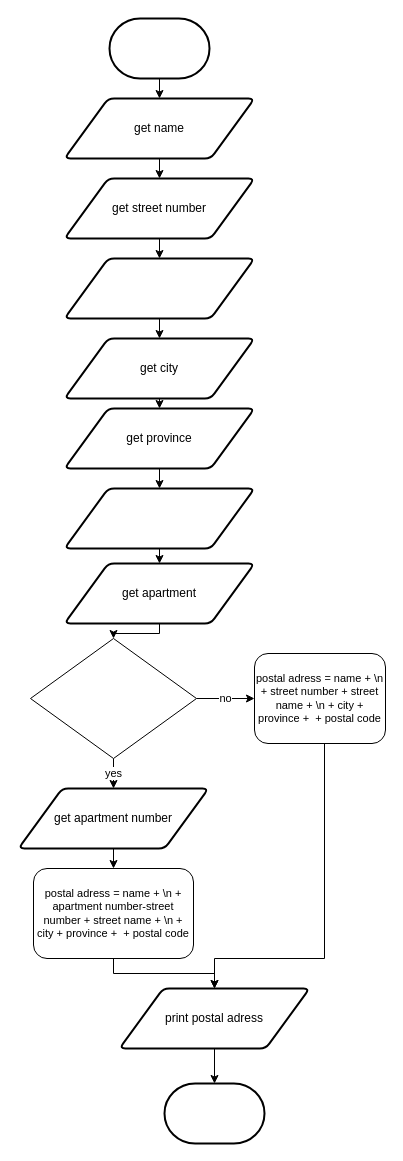
Image size: 403x1161. Some labels were removed from this diagram. Here are the shapes that lost their labels. From the top down, the centre of each, then its label:
At (x=159, y=48): "start".
At (x=159, y=288): "get street name".
At (x=159, y=518): "get postal code".
At (x=113, y=698): "if apartment = y".
At (x=214, y=1113): "end".
